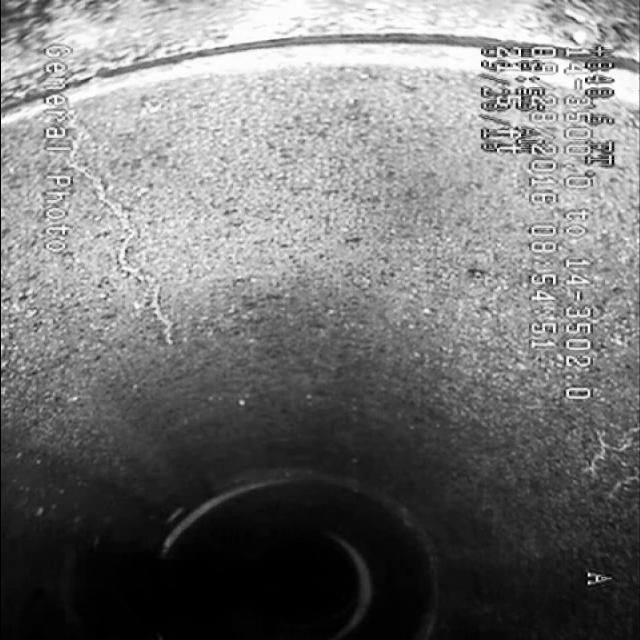Crack: (75, 118, 171, 350)
